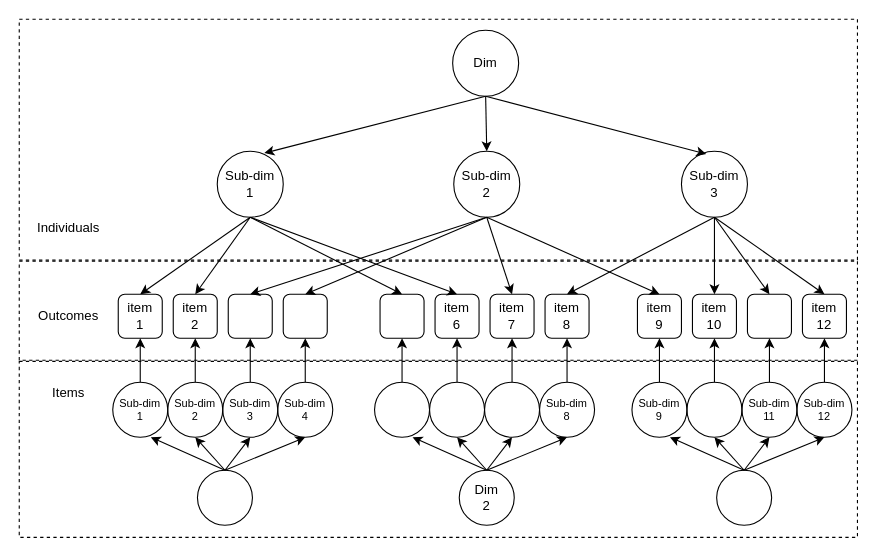
Image size: 877x557. Some labels were removed from this diagram. The centre of each missing label's shape, as x and y in pixels:
"Dim 1" goes at (x=224, y=497).
"Dim 3" goes at (x=744, y=497).
"item 11" goes at (x=768, y=315).
"item 3" goes at (x=249, y=315).
"item 4" goes at (x=304, y=315).
"item 5" goes at (x=401, y=315).
"Sub-dim 10" goes at (x=714, y=409).
"Sub-dim 5" goes at (x=401, y=409).
"Sub-dim 6" goes at (x=456, y=409).
"Sub-dim 7" goes at (x=511, y=409).
